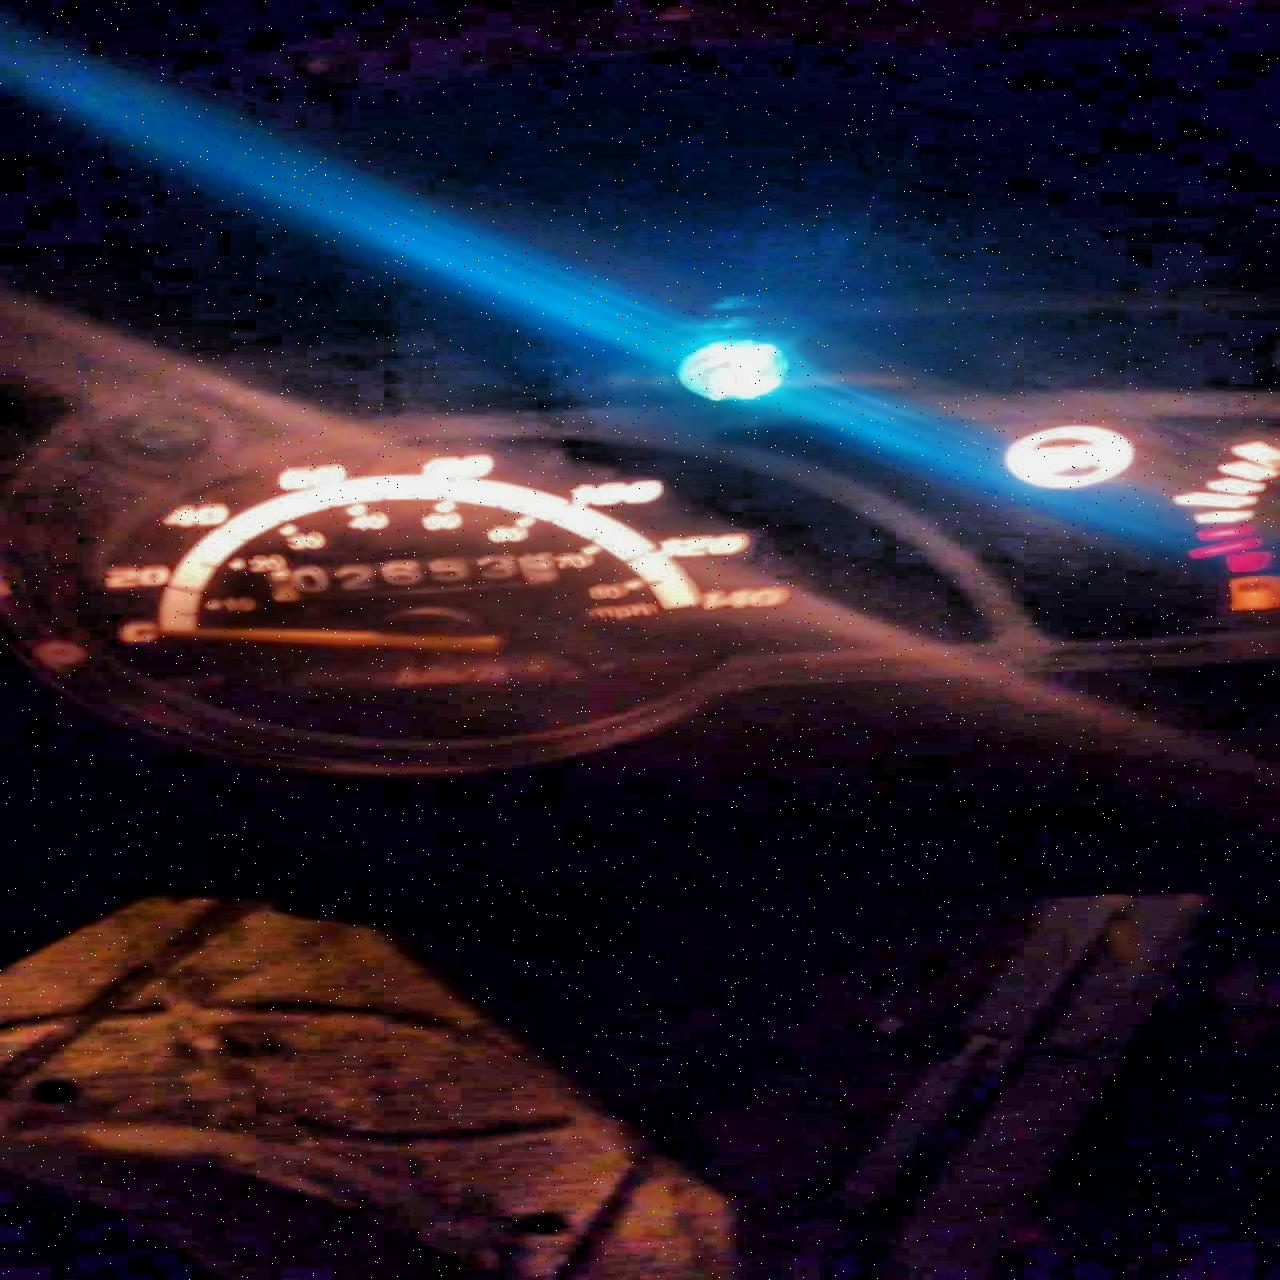0: (291, 566, 333, 592)
2: (333, 566, 373, 592)
3: (474, 553, 517, 579)
5: (425, 556, 472, 585), (522, 550, 558, 577)
6: (377, 559, 422, 587)
odometer: (277, 549, 568, 604)
